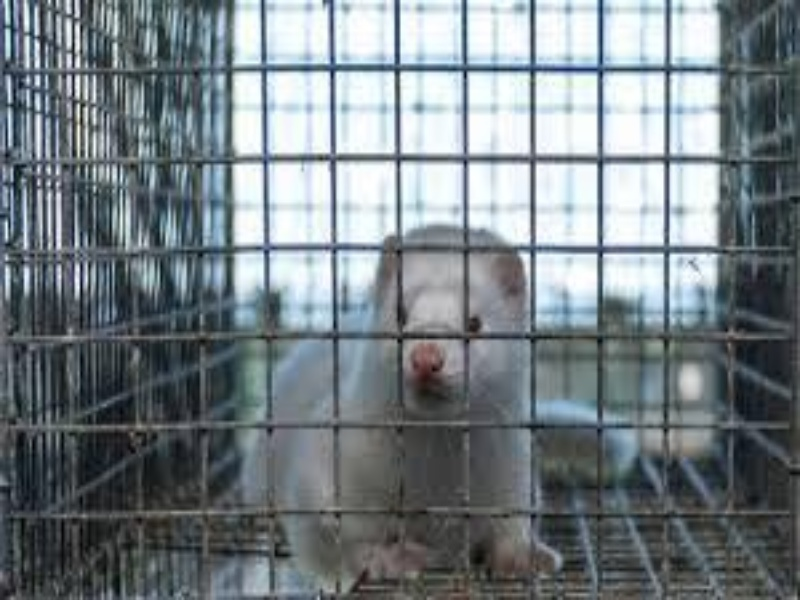minkish: (241, 222, 637, 580)
